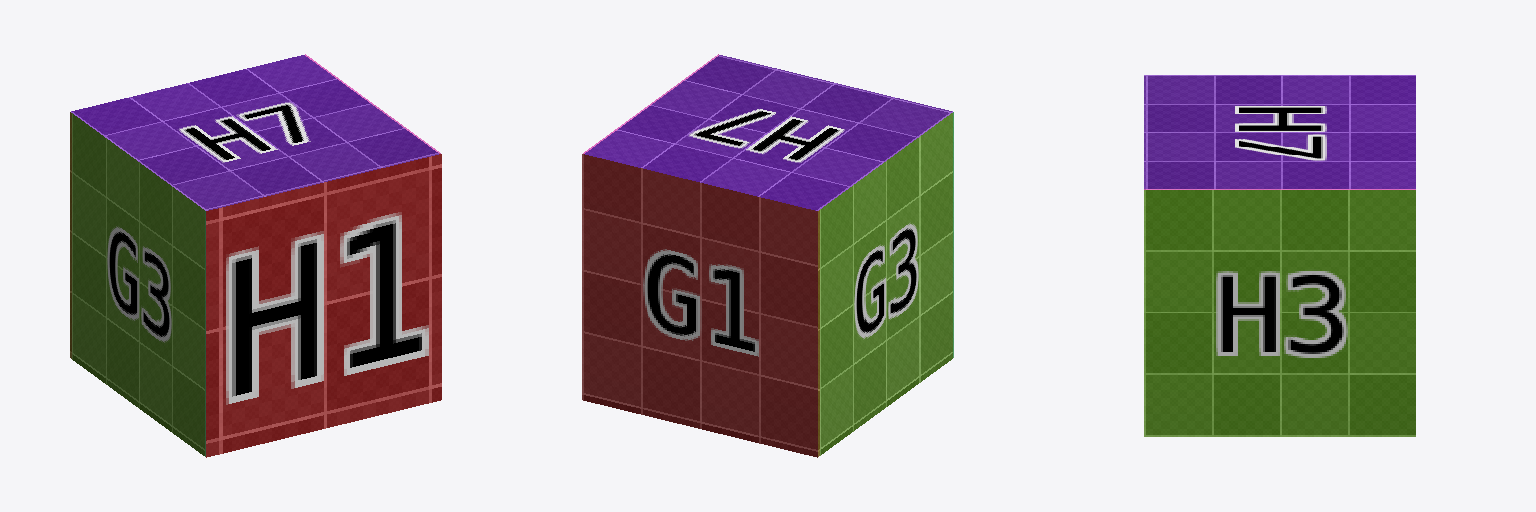
3 views of the same model, side by side, from view 1: azimuth 30°, elevation 25°; view 2: azimuth 150°, elevation 25°; view 3: azimuth 270°, elevation 25° (orthographic).
Visible parts, largest first — view 1: Cube; view 2: Cube; view 3: Cube.
Boxes of the visible parts, x1,y1,x2,y2 form: Cube: [70, 54, 441, 457]; Cube: [582, 54, 953, 457]; Cube: [1144, 75, 1415, 436].
Bounding box in the file's own units: 2 × 2 × 2.
1 materials, 1 textured.